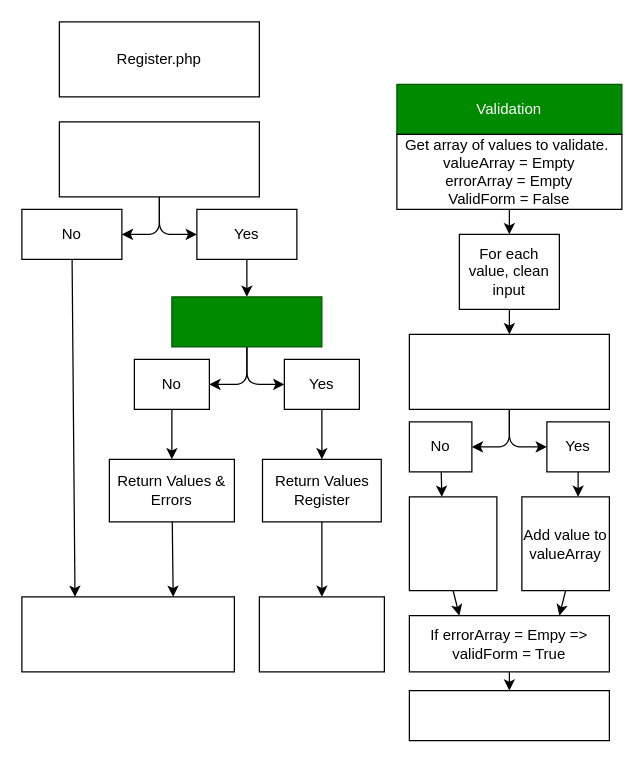
Some shapes in this 644 by 763 pixel diagram are drawn without their labels. The shapes that lost their labels are listed below. From the top down, each one's box as (x1, y1, x2, y2) in pixels, then its label:
(58, 121, 259, 197): Request = POST?
(171, 296, 322, 347): Input Valid?
(408, 333, 609, 409): Does value match requirement?
(408, 496, 497, 591): Add value to valueArray Add error to errorArray
(21, 596, 234, 672): ShowForm
(258, 596, 384, 672): Show Login page
(408, 689, 609, 741): Return valueArray, errorArray, Validform
